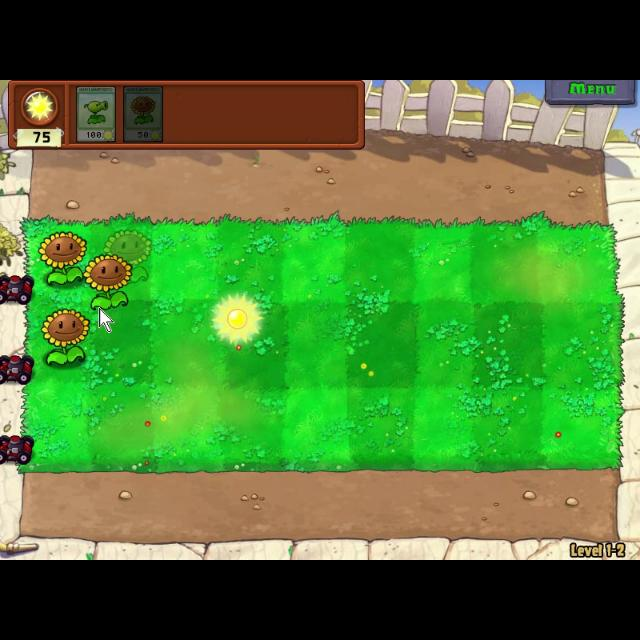Garden: (16, 214, 626, 473)
Menu Button: (540, 80, 640, 106)
Mower: (0, 264, 38, 310), (0, 348, 38, 390), (1, 428, 40, 468)
Peashooter: (74, 82, 118, 144)
Seed Panel: (6, 80, 368, 152)
Sun: (211, 292, 267, 346)
Sunflower: (122, 83, 164, 145)
Sunflower Seed: (41, 305, 88, 371), (38, 227, 86, 291), (88, 252, 128, 314)
